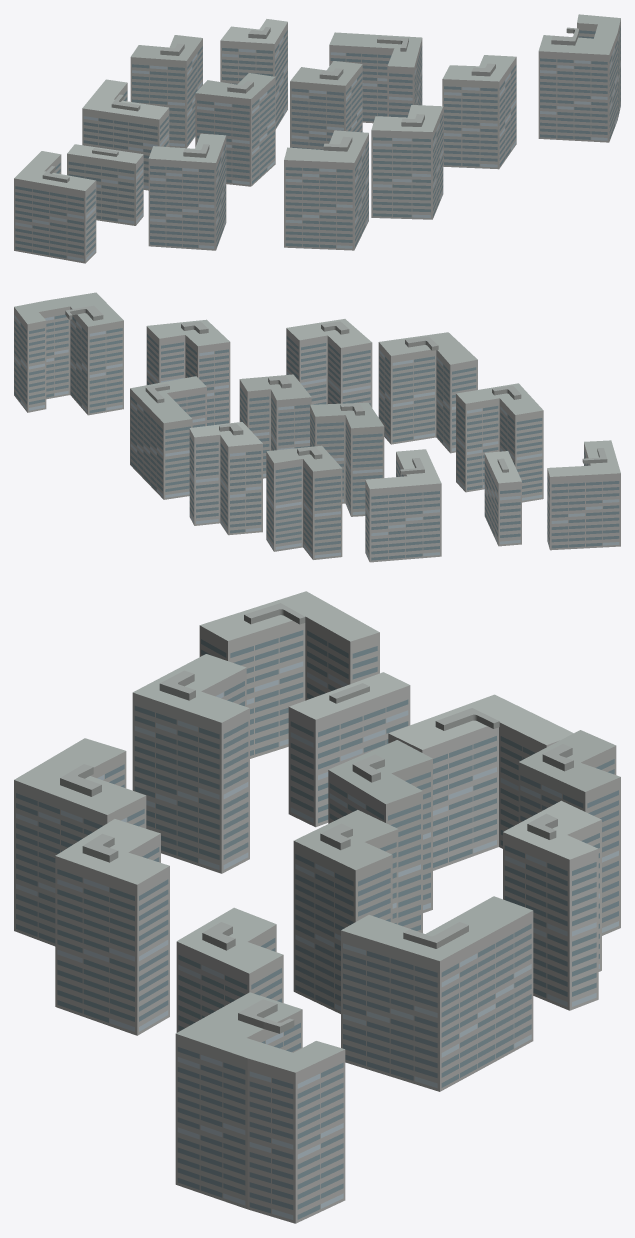
File: apt-a13552002.glb
3 renders of one model, top to bottom at view 1: azimuth 30°, elevation 25°; view 2: azimuth 150°, elevation 25°; view 3: azimuth 270°, elevation 25°, orthographic. The views are drawn at different scales.
Visible parts, largest first — view 1: apt-a13552002; view 2: apt-a13552002; view 3: apt-a13552002.
Boxes of the visible parts, x1,y1,x2,y2 form: apt-a13552002: (14, 14, 620, 263); apt-a13552002: (14, 292, 620, 562); apt-a13552002: (14, 591, 620, 1223).
Bounding box in the file's own units: 358 × 52 × 181.
